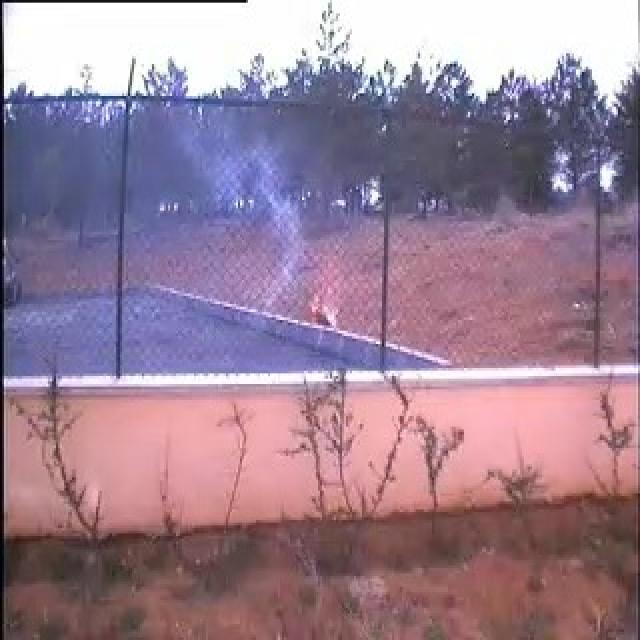smoke: (131, 110, 308, 367)
